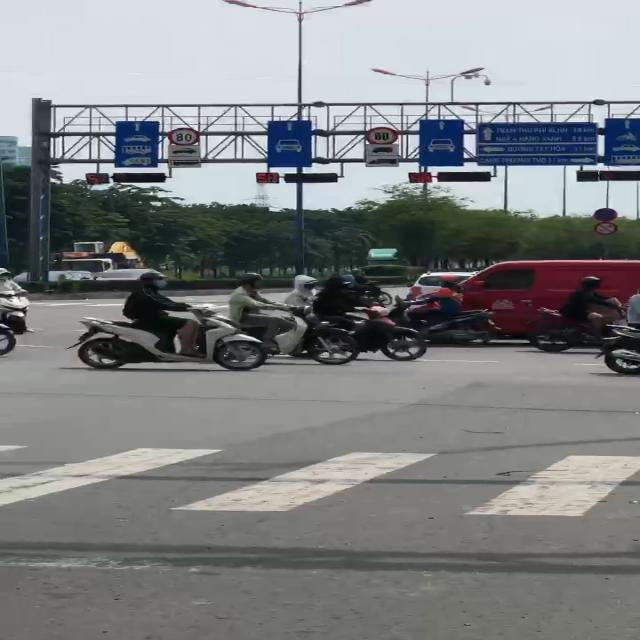Bien bao toc do toi da cho phep: (364, 126, 408, 146), (165, 127, 203, 146)
